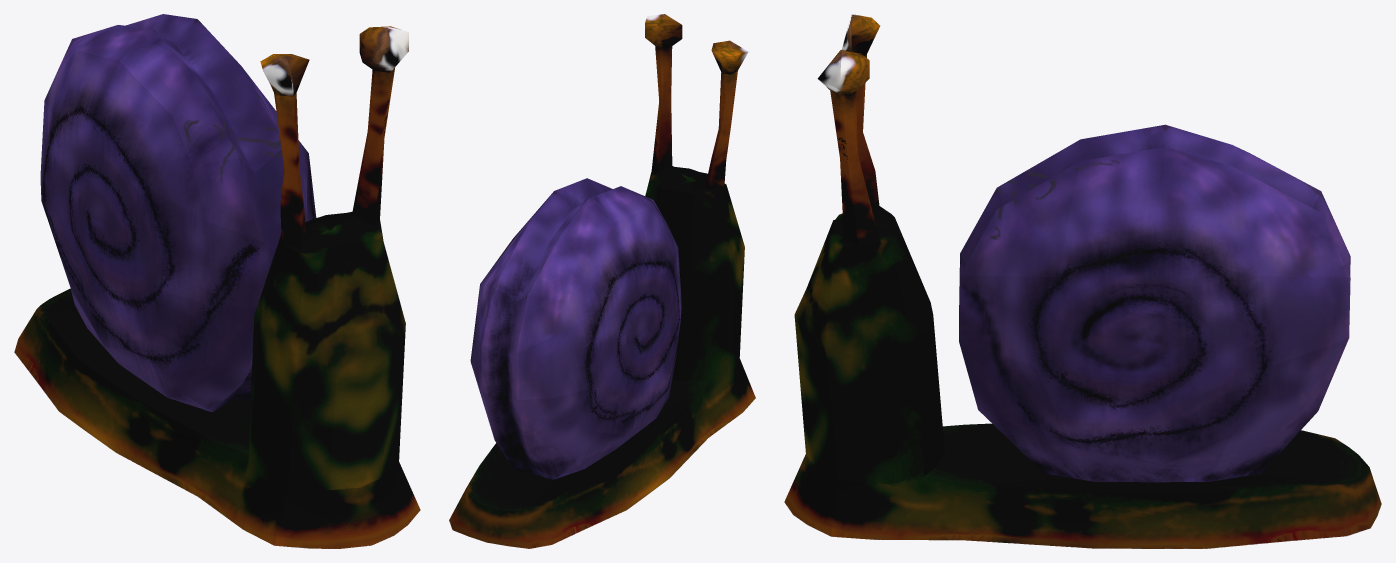
Rendered from Snail_1.glb.
3 views of the same model, side by side, from view 1: azimuth 30°, elevation 25°; view 2: azimuth 150°, elevation 25°; view 3: azimuth 270°, elevation 25° (orthographic). The views are drawn at different scales.
Visible parts, largest first — view 1: Snail_1 Model; view 2: Snail_1 Model; view 3: Snail_1 Model.
Part boxes in pixels (x1,y1,x2,y2): Snail_1 Model: [14, 14, 420, 548]; Snail_1 Model: [449, 14, 755, 548]; Snail_1 Model: [784, 14, 1381, 548].
Size of the model in its own units: 23.36 by 57.22 by 65.55.
Materials: 1 (1 with a texture image).
